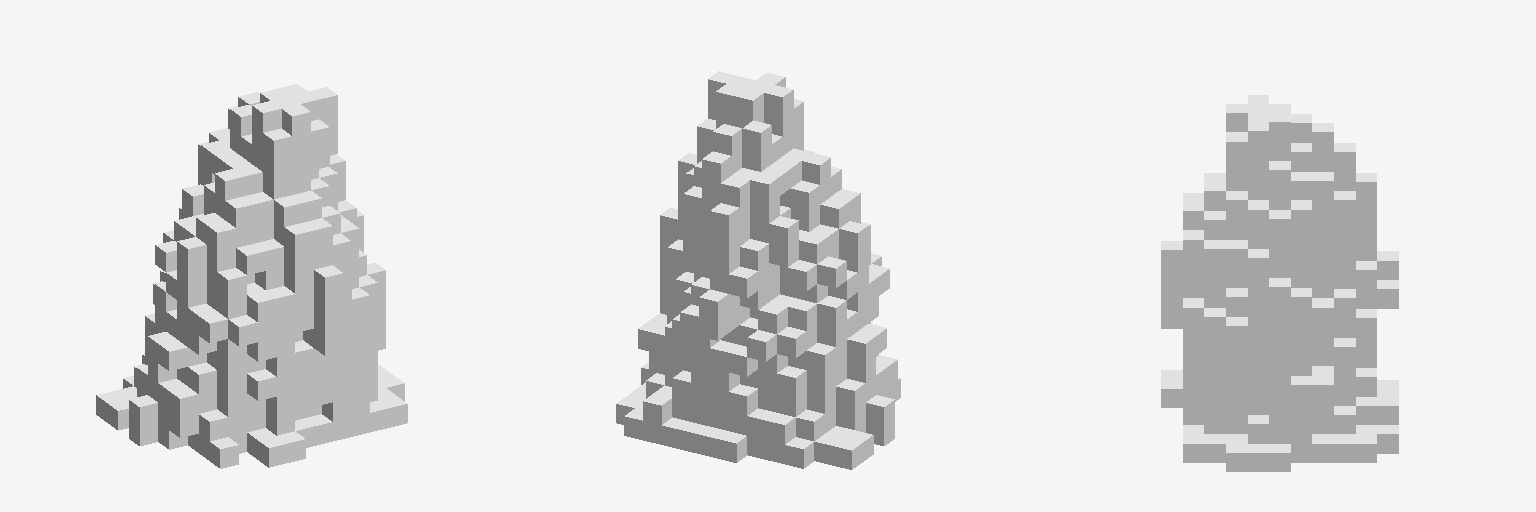
The model's file is Mountain_01.obj.
3 views of the same model, side by side, from view 1: azimuth 30°, elevation 25°; view 2: azimuth 150°, elevation 25°; view 3: azimuth 270°, elevation 25° (orthographic).
Visible parts, largest first — view 1: Mountain_01; view 2: Mountain_01; view 3: Mountain_01.
Boxes of the visible parts, <box> form: Mountain_01: <box>96,84,407,468</box>; Mountain_01: <box>616,71,900,469</box>; Mountain_01: <box>1161,95,1398,471</box>.
Bounding box in the file's own units: 13 × 16 × 11.